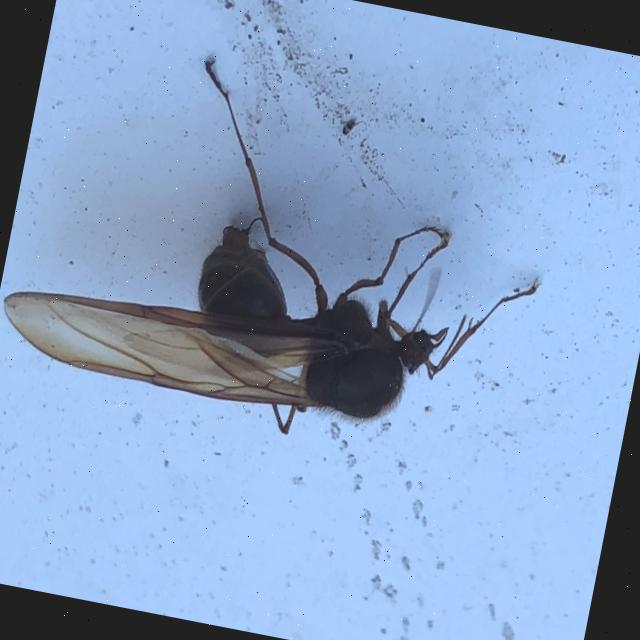Alive-Male-Alate: (0, 28, 571, 478)
